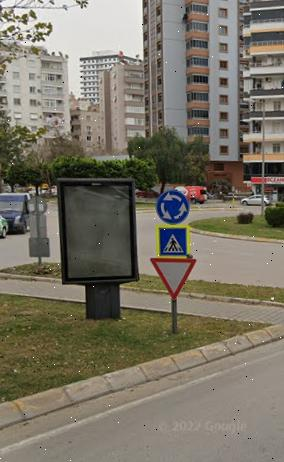crossroads: (156, 189, 191, 226)
